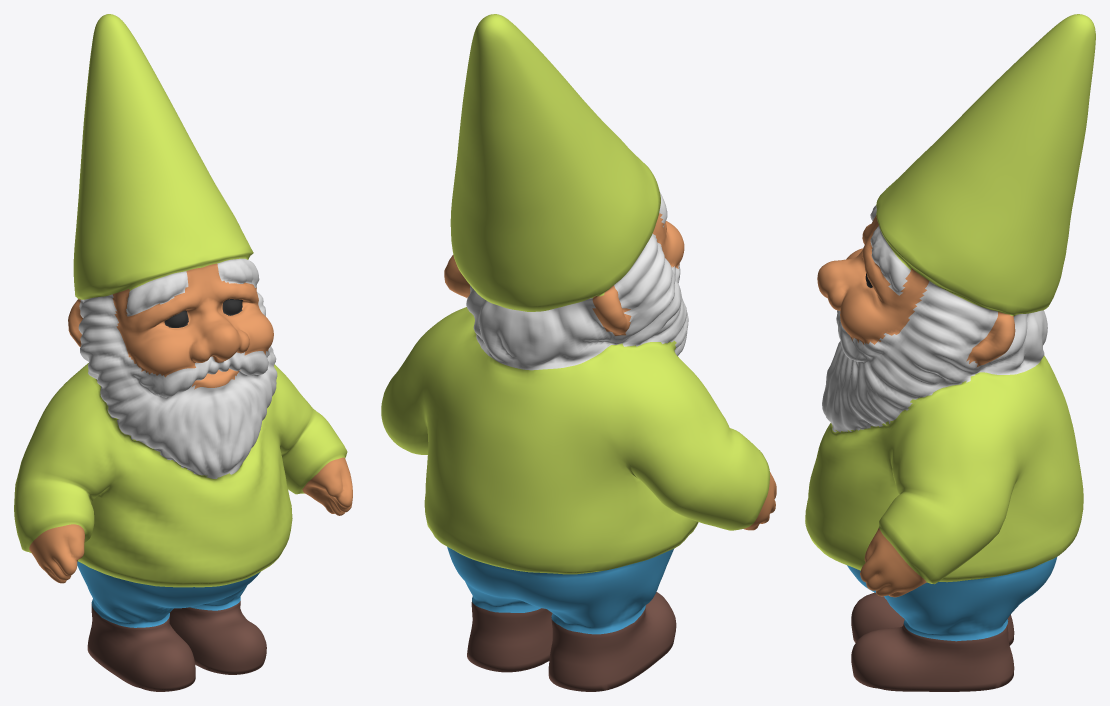
Rendered from YellowGnome.fbx.
The picture shows the model from 3 angles, left to right: view 1: azimuth 30°, elevation 25°; view 2: azimuth 150°, elevation 25°; view 3: azimuth 270°, elevation 25°; orthographic projection. The views are drawn at different scales.
Parts seen in each view (by area): view 1: 13184_PudgyGnome_v1_NEW; view 2: 13184_PudgyGnome_v1_NEW; view 3: 13184_PudgyGnome_v1_NEW.
Part boxes in pixels (x1=…): 13184_PudgyGnome_v1_NEW: x1=14, y1=14, x2=352, y2=691; 13184_PudgyGnome_v1_NEW: x1=381, y1=14, x2=776, y2=691; 13184_PudgyGnome_v1_NEW: x1=805, y1=14, x2=1095, y2=691.
Bounding box in the file's own units: 1796 × 3175 × 1304.
